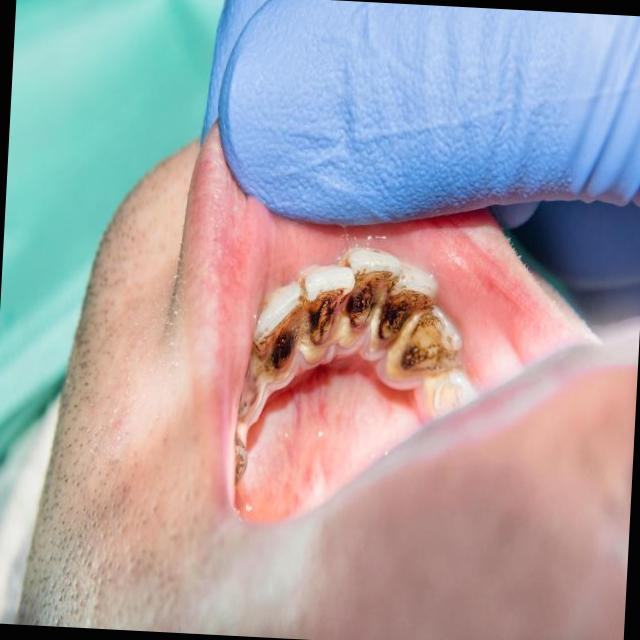caries: (334, 246, 405, 352), (366, 264, 440, 362), (384, 305, 468, 385), (295, 264, 357, 367), (251, 280, 306, 388), (234, 359, 265, 448), (233, 439, 250, 484)
